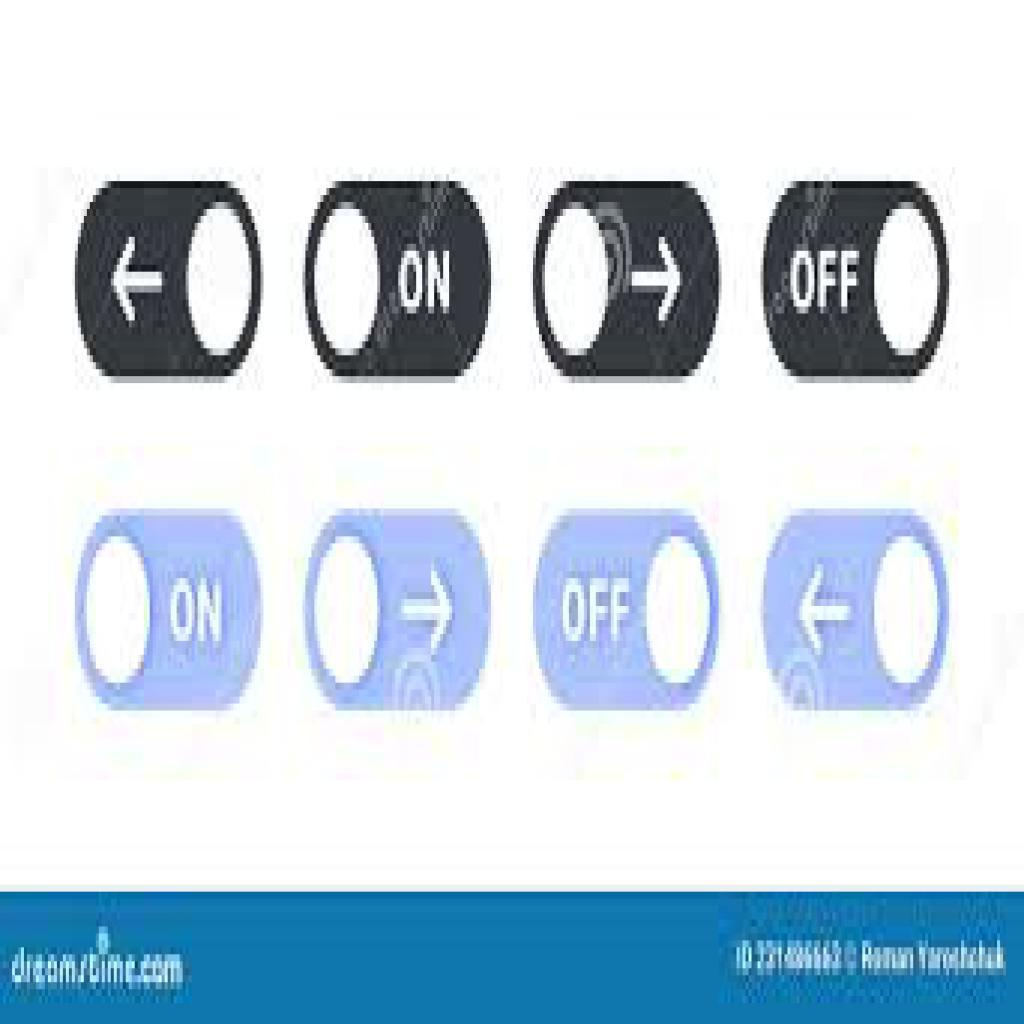switch: (302, 496, 496, 730), (532, 511, 727, 717), (74, 517, 269, 722), (533, 182, 723, 387), (766, 181, 956, 383), (762, 511, 950, 713), (75, 182, 261, 379), (308, 184, 488, 381)
